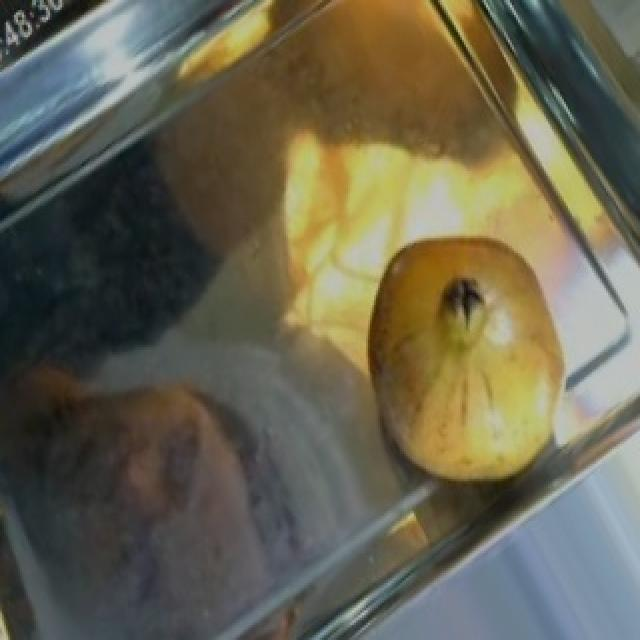fruit: (330, 201, 598, 508)
